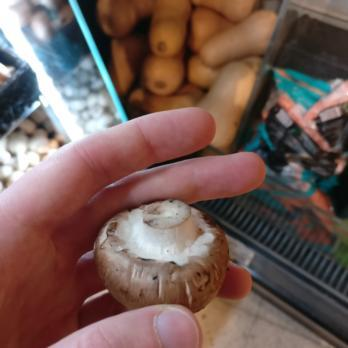Mushroom: (93, 194, 232, 316), (179, 189, 185, 212)
